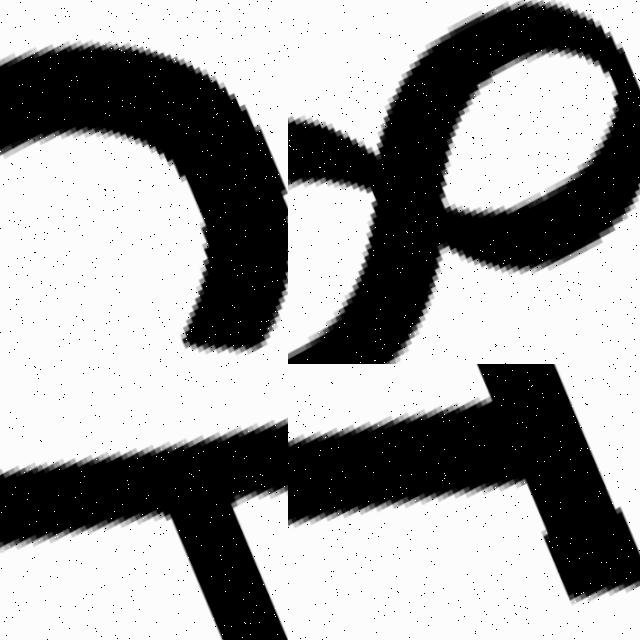8: (288, 0, 640, 364)
C: (0, 50, 288, 364)
H: (0, 364, 288, 640)
T: (288, 364, 640, 640)
